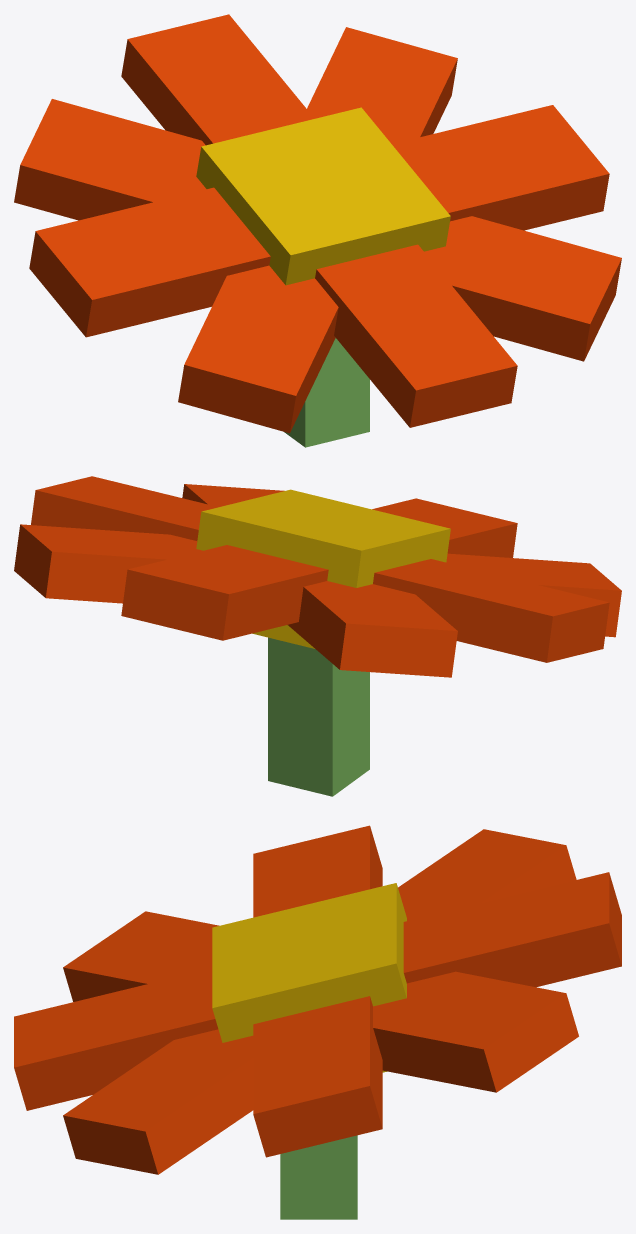
Rendered from SM_Flower_01_A.fbx.
3 views of the same model, one above another, from view 1: azimuth 30°, elevation 25°; view 2: azimuth 150°, elevation 25°; view 3: azimuth 270°, elevation 25° (orthographic). The views are drawn at different scales.
Visible parts, largest first — view 1: pCube430; view 2: pCube430; view 3: pCube430.
Part boxes in pixels (x1,y1,x2,y2): pCube430: [14, 14, 621, 447]; pCube430: [14, 476, 621, 796]; pCube430: [14, 825, 621, 1219].
Bounding box in the file's own units: 19.55 × 10.7 × 19.29.
